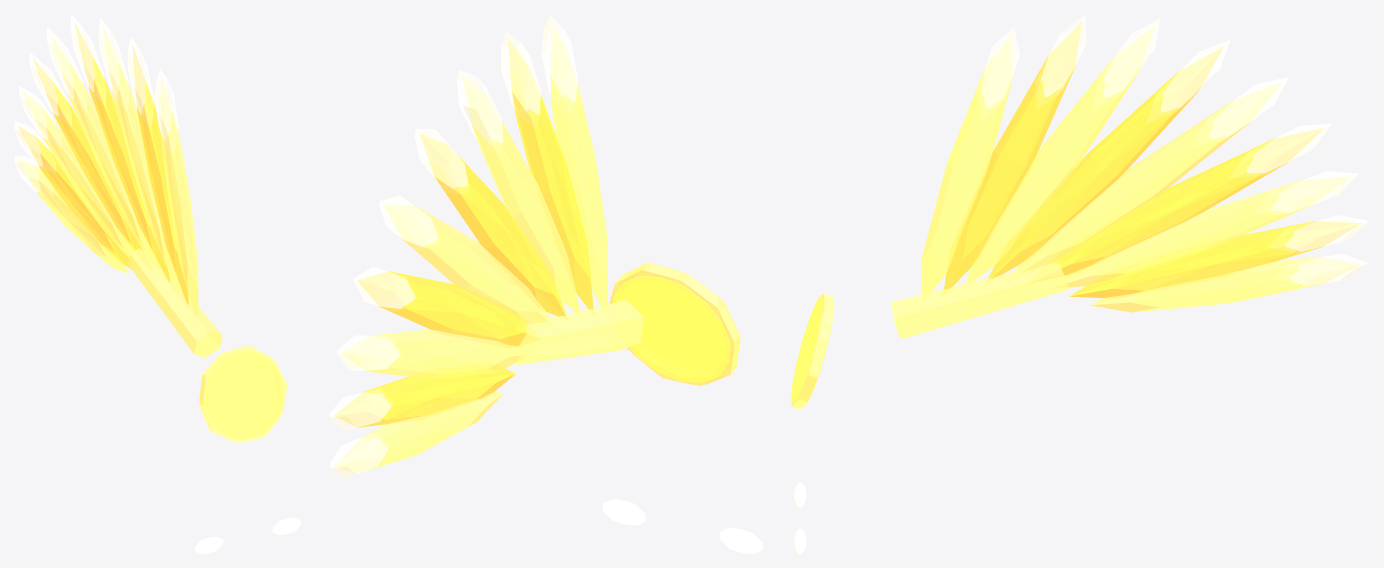
Rendered from commander_helm.glb.
The picture shows the model from 3 angles, left to right: view 1: azimuth 30°, elevation 25°; view 2: azimuth 150°, elevation 25°; view 3: azimuth 270°, elevation 25°; orthographic projection. The views are drawn at different scales.
Visible parts, largest first — view 1: commander_helm; view 2: commander_helm; view 3: commander_helm.
Part boxes in pixels (x1,y1,x2,y2): commander_helm: [14, 14, 300, 553]; commander_helm: [329, 14, 762, 553]; commander_helm: [791, 14, 1369, 553].
Bounding box in the file's own units: 0.3551 × 1.35 × 1.38.
